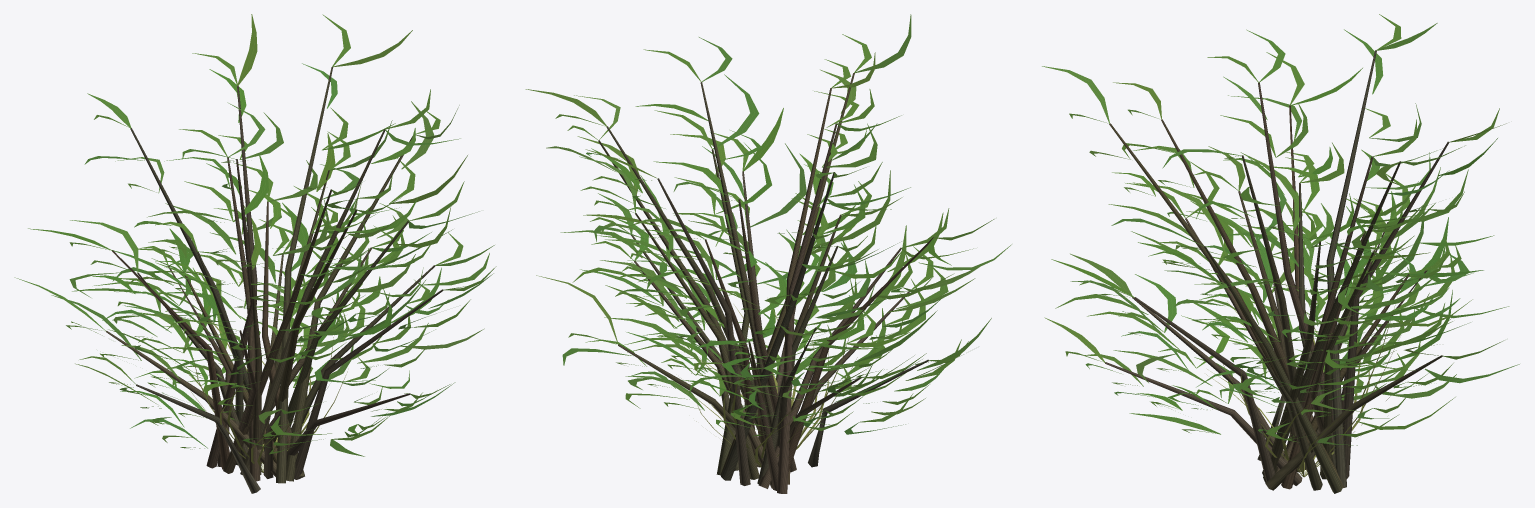
The model's file is PZ_WetlandShrub_A.glb.
3 renders of one model, left to right at view 1: azimuth 30°, elevation 25°; view 2: azimuth 150°, elevation 25°; view 3: azimuth 270°, elevation 25°, orthographic. The views are drawn at different scales.
Parts seen in each view (by area): view 1: Shrub_IndividualSilhouetteLeaves_Batched, Shrub_WoodyBranchNetwork, Shrub_LowWetGrasses; view 2: Shrub_IndividualSilhouetteLeaves_Batched, Shrub_WoodyBranchNetwork, Shrub_LowWetGrasses; view 3: Shrub_IndividualSilhouetteLeaves_Batched, Shrub_WoodyBranchNetwork, Shrub_LowWetGrasses.
Part boxes in pixels (x1,y1,x2,y2): Shrub_IndividualSilhouetteLeaves_Batched: [14, 14, 496, 456]; Shrub_WoodyBranchNetwork: [106, 67, 443, 493]; Shrub_LowWetGrasses: [173, 298, 347, 472]; Shrub_IndividualSilhouetteLeaves_Batched: [525, 14, 1011, 436]; Shrub_WoodyBranchNetwork: [598, 73, 933, 493]; Shrub_LowWetGrasses: [681, 302, 857, 467]; Shrub_IndividualSilhouetteLeaves_Batched: [1042, 14, 1519, 445]; Shrub_WoodyBranchNetwork: [1105, 50, 1449, 493]; Shrub_LowWetGrasses: [1206, 283, 1398, 477].
Bounding box in the file's own units: 1.6 × 1.34 × 1.44.
3 materials, 3 textured.
